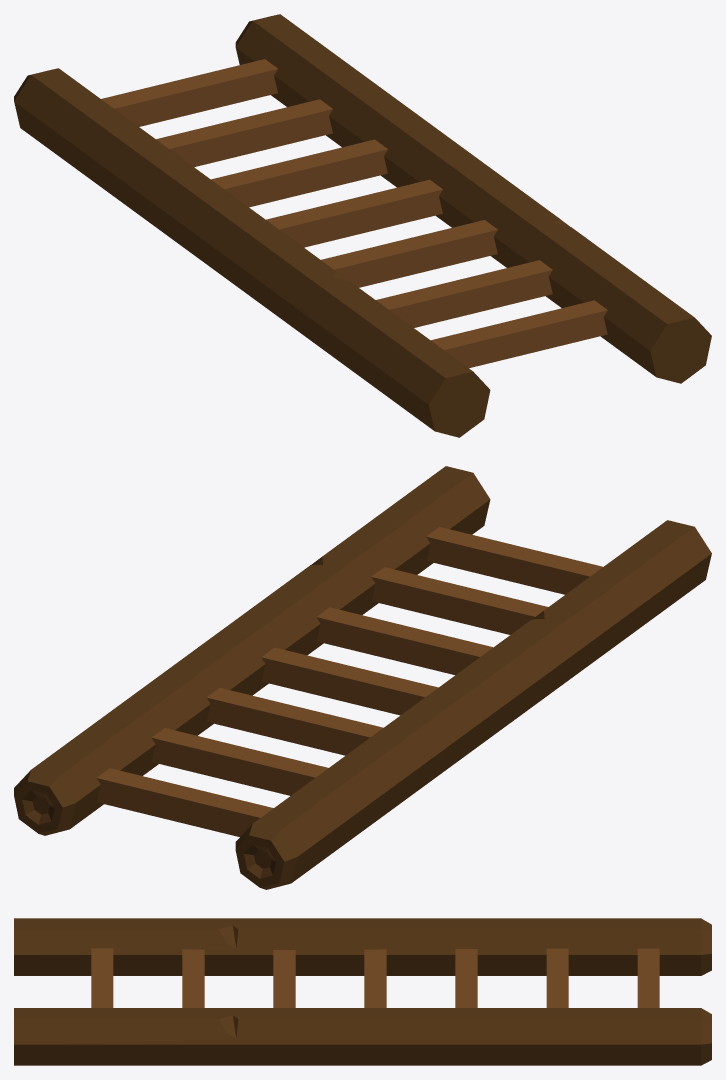
The model's file is E_Ladder.fbx.
3 views of the same model, one above another, from view 1: azimuth 30°, elevation 25°; view 2: azimuth 150°, elevation 25°; view 3: azimuth 270°, elevation 25° (orthographic). The views are drawn at different scales.
Visible parts, largest first — view 1: E_Ladder; view 2: E_Ladder; view 3: E_Ladder.
Boxes of the visible parts, <box> form: E_Ladder: <box>14,14,711,437</box>; E_Ladder: <box>14,466,711,889</box>; E_Ladder: <box>14,918,711,1065</box>.
Size of the model in its own units: 117 by 24.81 by 300.
